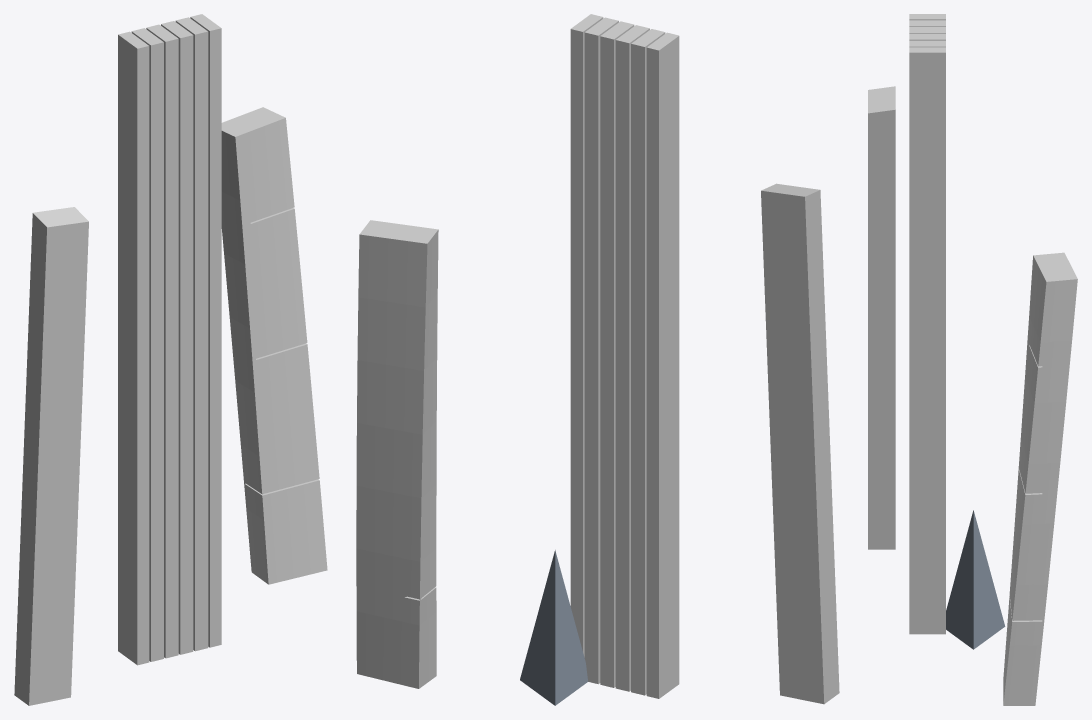
File: corporate-monoliths.glb
The picture shows the model from 3 angles, left to right: view 1: azimuth 30°, elevation 25°; view 2: azimuth 150°, elevation 25°; view 3: azimuth 270°, elevation 25°; orthographic projection. The views are drawn at different scales.
Parts seen in each view (by area): view 1: corp_jpmc_tower, corp_cisco_tower, corp_hashicorp_tower; view 2: corp_jpmc_tower, corp_cisco_tower, corp_hashicorp_tower, corp_accent_wedge; view 3: corp_jpmc_tower, corp_cisco_tower, corp_hashicorp_tower, corp_accent_wedge.
Boxes of the visible parts, <box> form: corp_jpmc_tower: <box>118,14,221,665</box>; corp_cisco_tower: <box>221,107,327,584</box>; corp_hashicorp_tower: <box>14,207,88,705</box>; corp_jpmc_tower: <box>570,14,679,698</box>; corp_cisco_tower: <box>356,220,438,688</box>; corp_hashicorp_tower: <box>761,183,839,704</box>; corp_accent_wedge: <box>520,550,588,705</box>; corp_jpmc_tower: <box>909,14,945,634</box>; corp_cisco_tower: <box>1003,252,1077,705</box>; corp_hashicorp_tower: <box>868,86,895,549</box>; corp_accent_wedge: <box>946,510,1005,649</box>.
Size of the model in its own units: 4.4 by 7 by 2.29.
